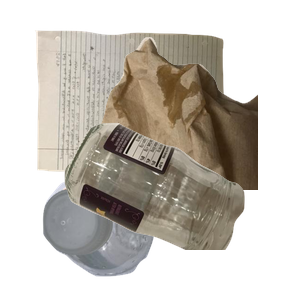glass: (62, 120, 300, 300)
paper: (32, 28, 249, 196)
plastic: (40, 170, 187, 300)
trash: (60, 35, 300, 215)
